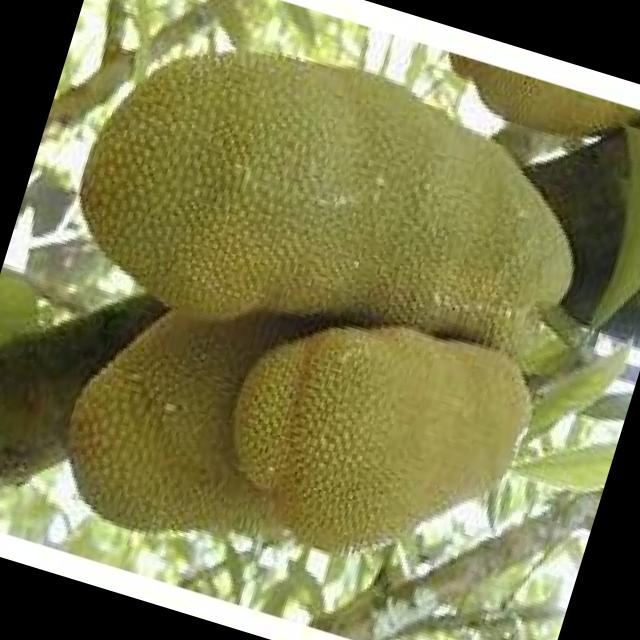Fruit: (14, 0, 464, 391), (180, 239, 580, 618), (17, 263, 352, 587)
